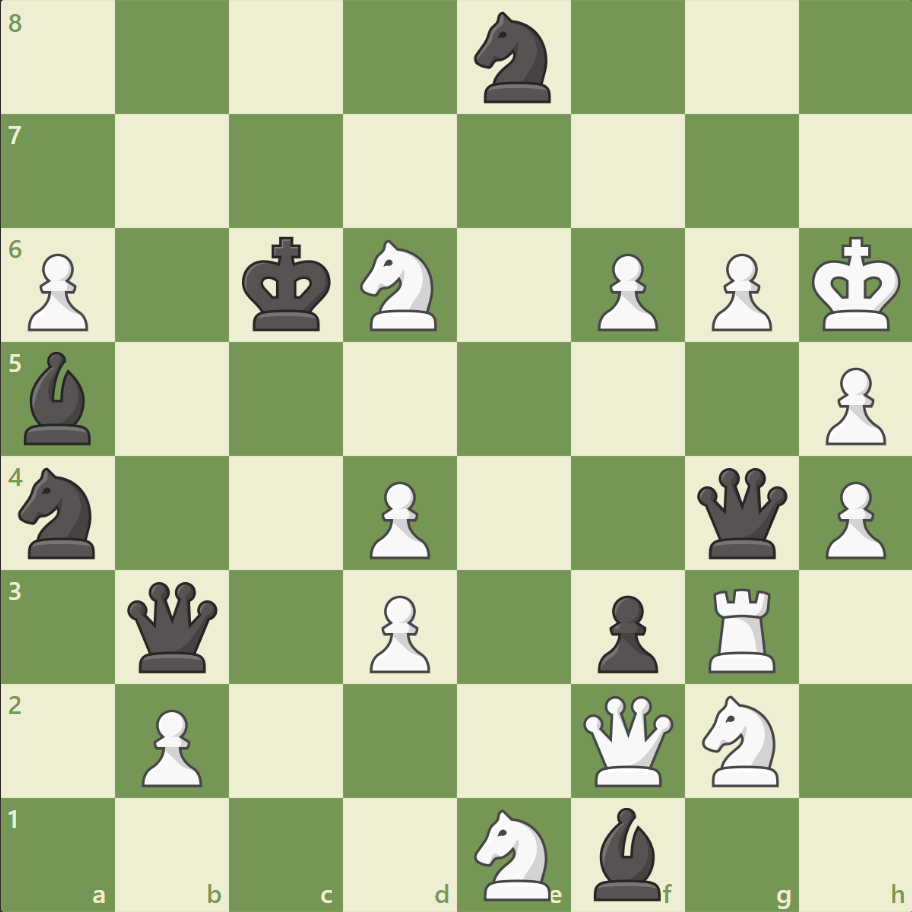K: (806, 231, 906, 339)
N: (351, 234, 449, 337), (692, 688, 789, 791), (465, 802, 562, 904)
P: (20, 246, 95, 337), (701, 246, 776, 337), (133, 700, 208, 791), (588, 246, 662, 337), (815, 359, 889, 450), (361, 473, 435, 564), (815, 473, 889, 564), (361, 586, 435, 677)
Q: (578, 690, 677, 789)
R: (700, 579, 783, 676)
b: (585, 801, 669, 904), (17, 347, 101, 449)
k: (238, 231, 338, 339)
n: (465, 7, 562, 110), (11, 461, 108, 564)
p: (588, 586, 662, 677)
q: (124, 576, 223, 676), (691, 463, 790, 562)
